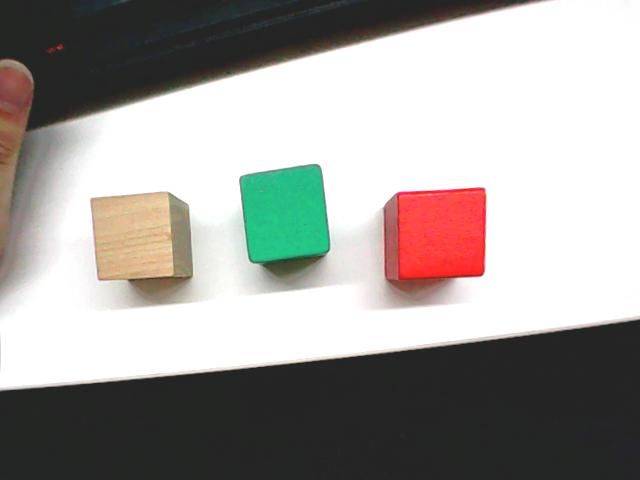green_box: (236, 159, 333, 266)
raw_box: (87, 187, 195, 283)
red_box: (380, 182, 490, 284)
